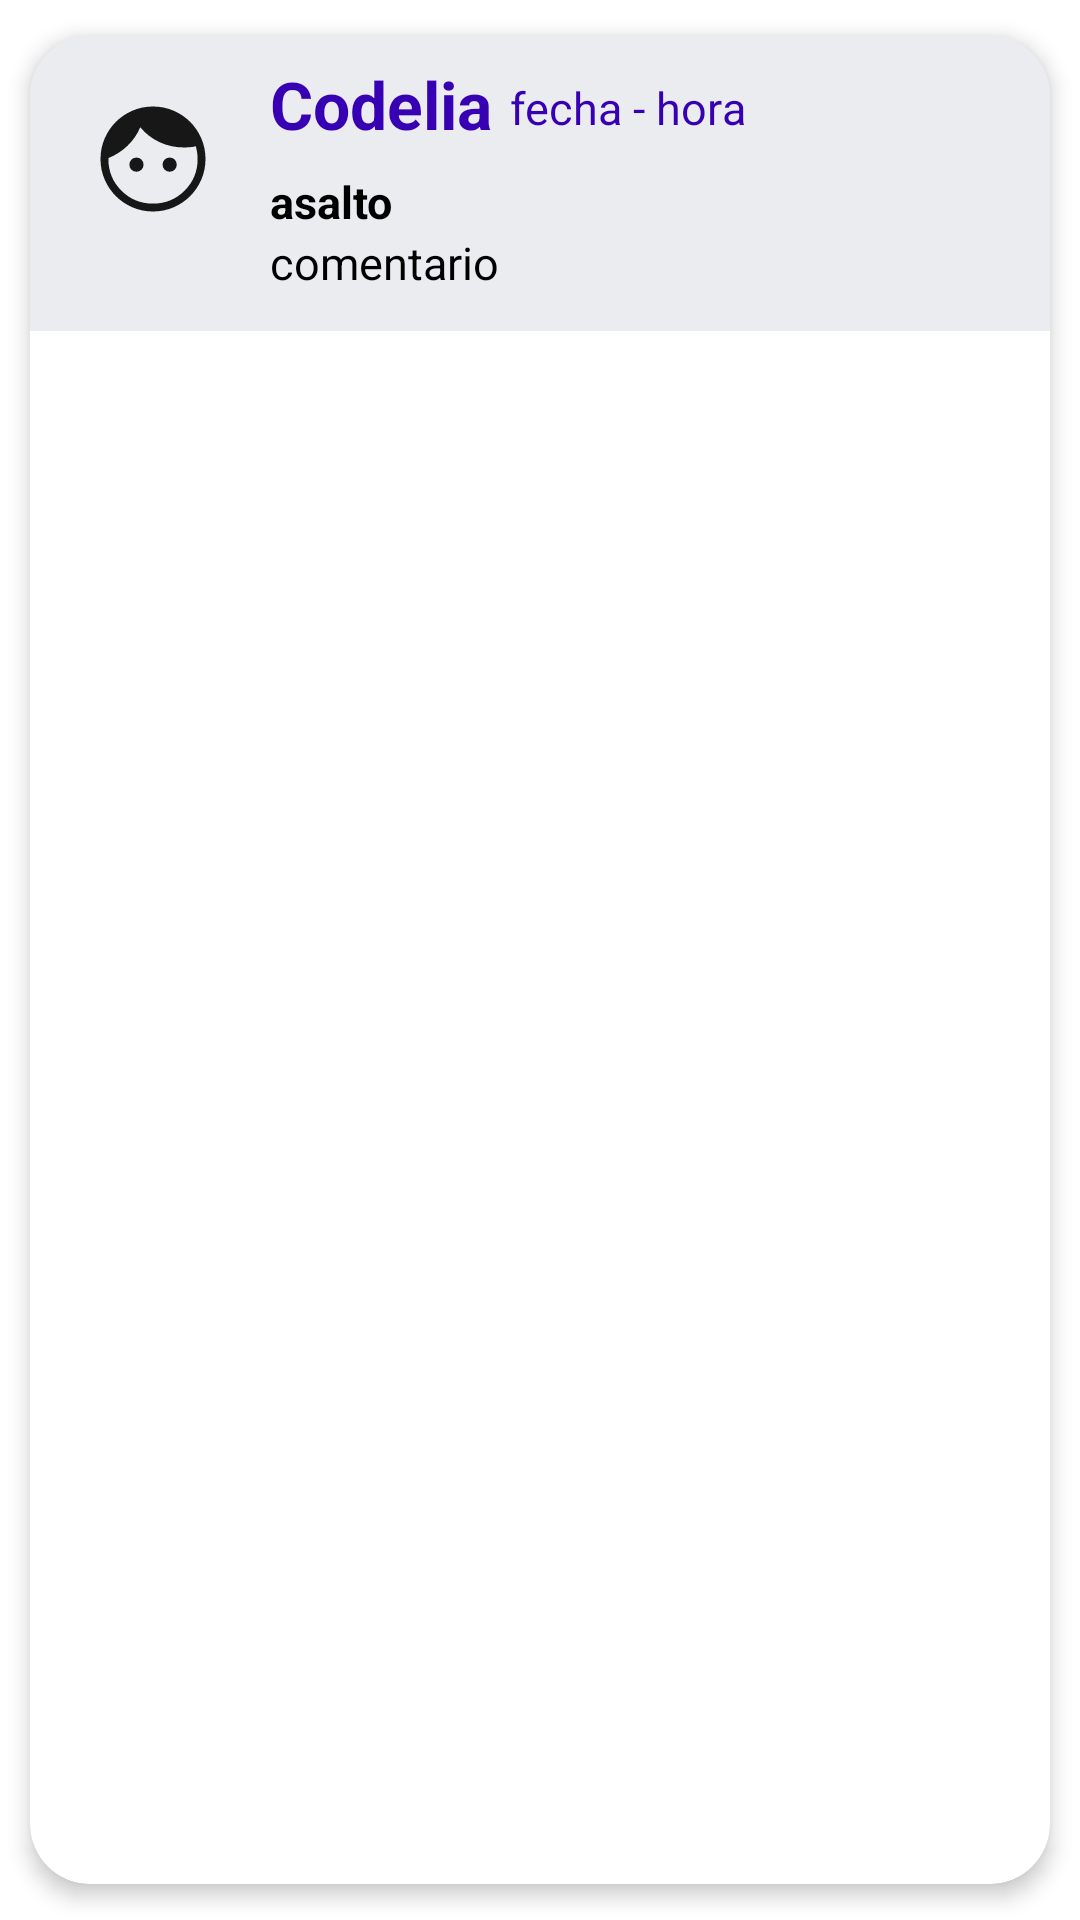

Screen size 1080px x 1920px. Icon name, then its center in pixels as [x,y]:
user: [153,159]
